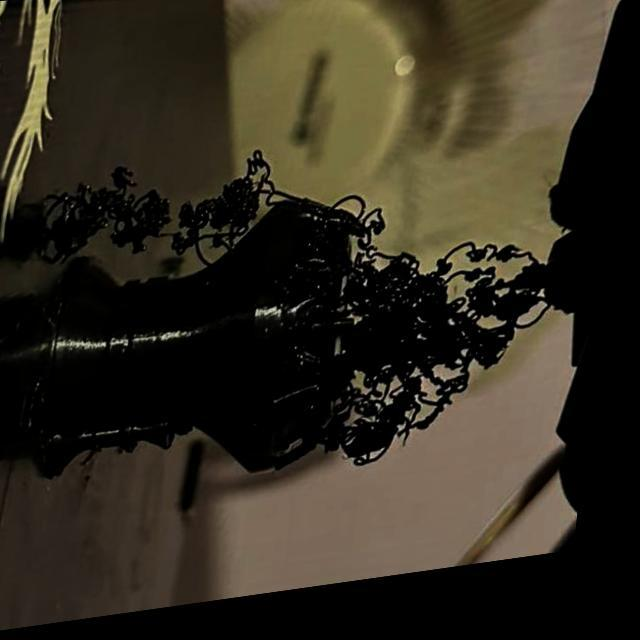spaghetti: (414, 253, 546, 371), (43, 170, 176, 274), (381, 354, 473, 433), (180, 183, 271, 256), (335, 398, 414, 472), (367, 262, 420, 332), (340, 207, 396, 257)
